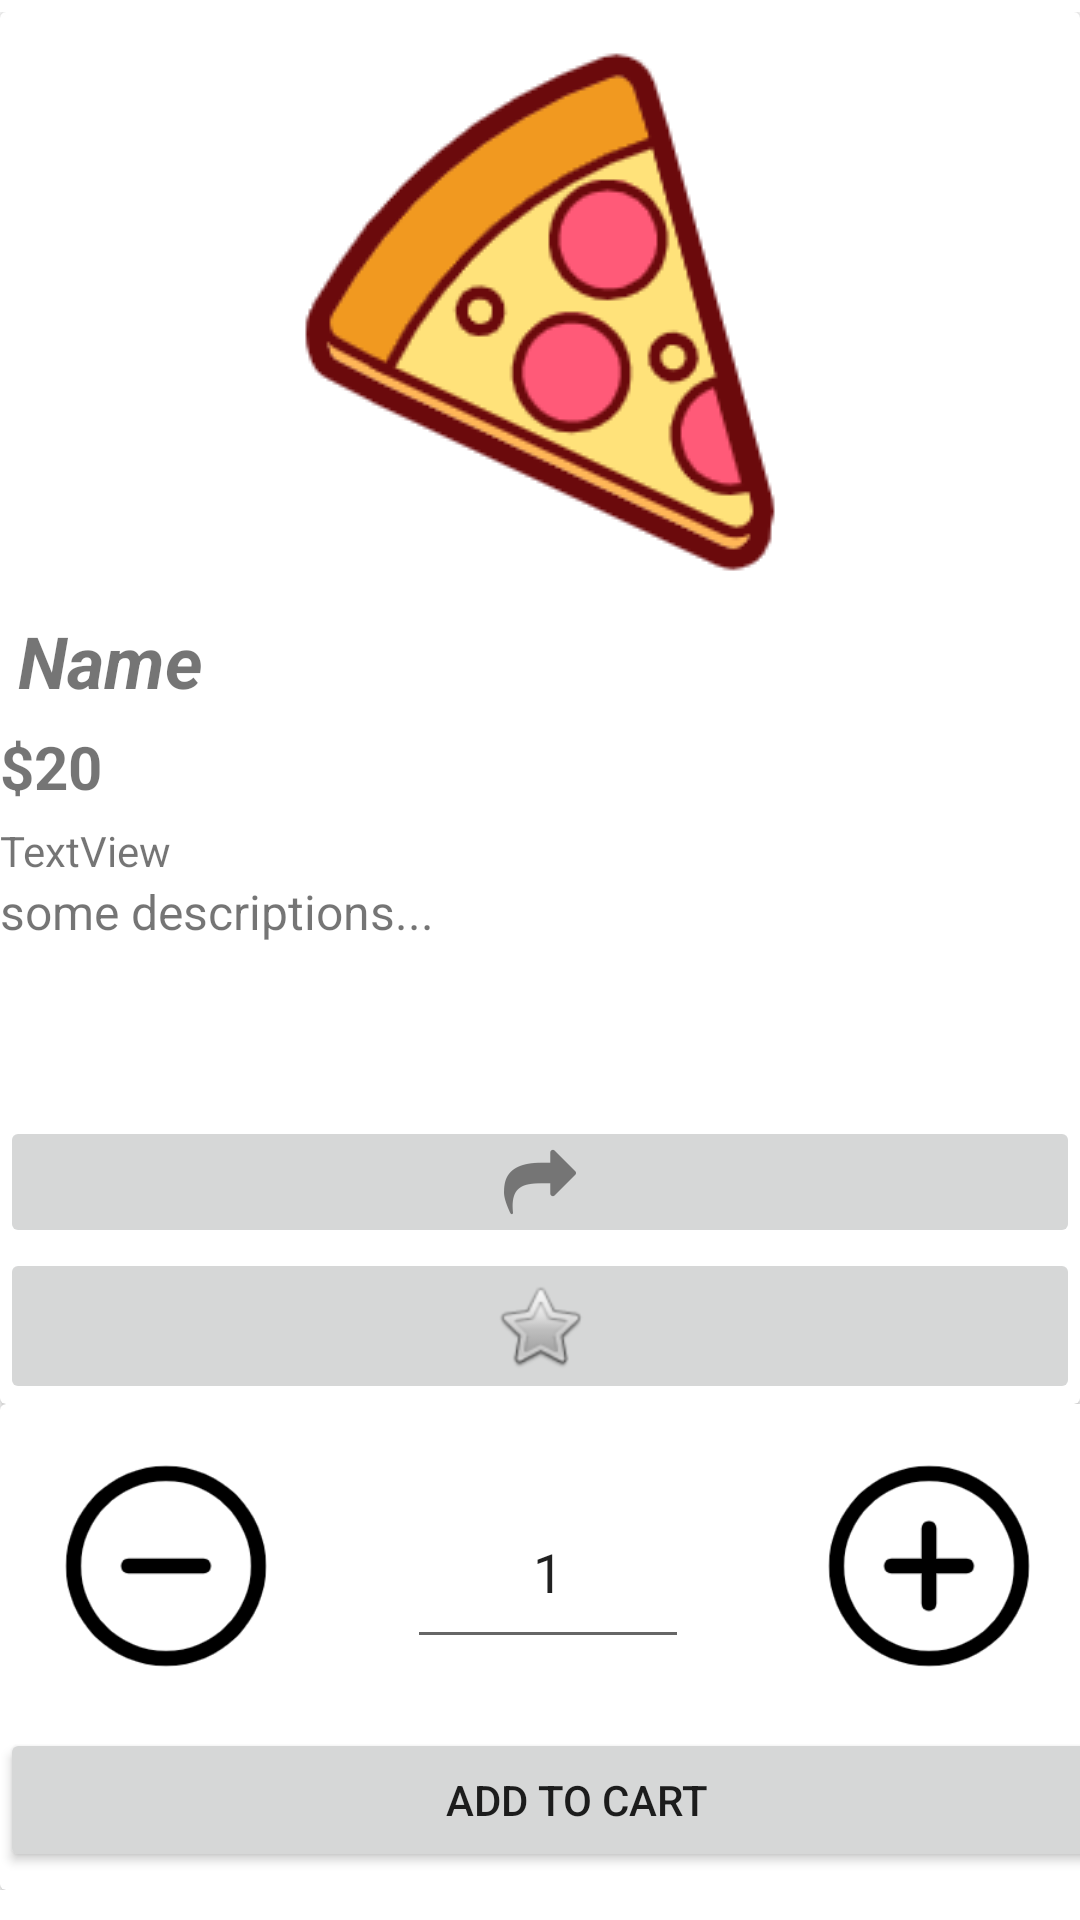

Screen size 1080 × 1920. Icon name, then its box in pixels as (x1, y1, x2, y2):
decreasebutton: (65, 1465, 267, 1667)
increasebutton: (828, 1465, 1030, 1667)
